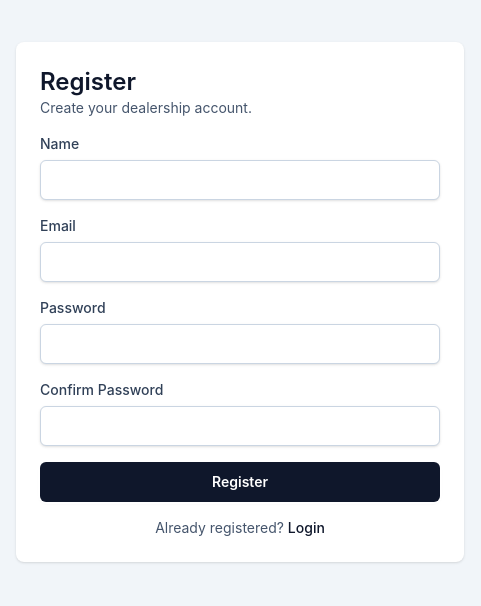
Test: Register Page › registers a user and shows success
Type "Hiren" into the field labelled "Name" at (240, 180), box [40, 160, 440, 200]
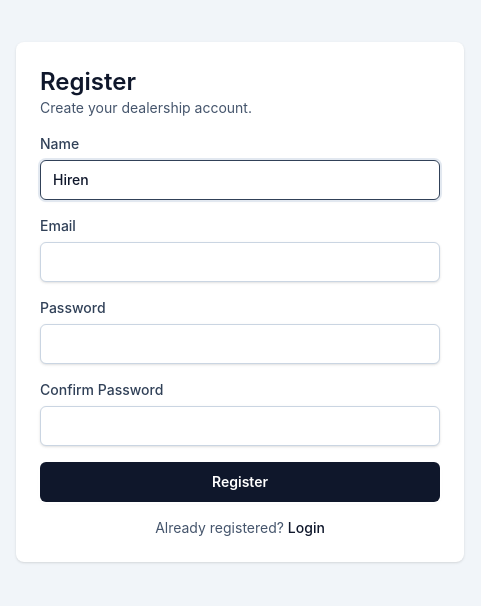
Type "hiren@example.com" into the field labelled "Email" at (240, 262), box [40, 242, 440, 282]
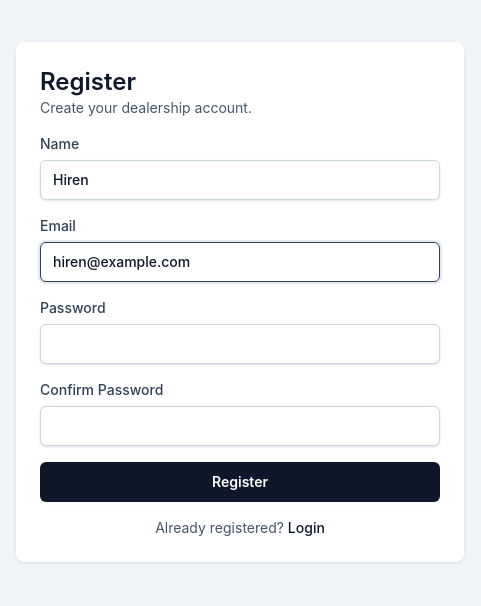
Type "Password123" into the password field labelled "Password" at (240, 344), box [40, 324, 440, 364]
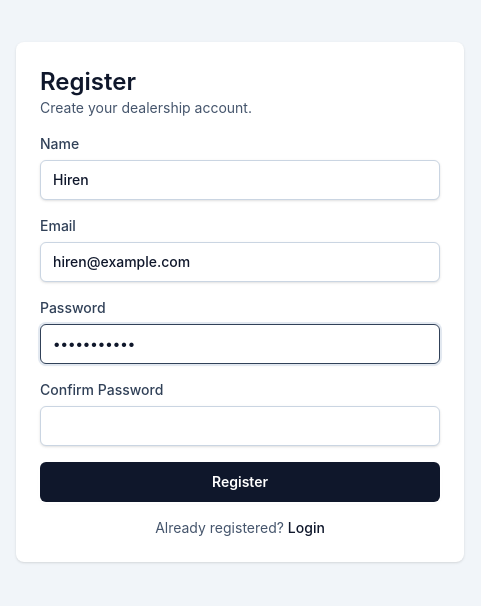
Type "Password123" into the password field labelled "Confirm Password" at (240, 426), box [40, 406, 440, 446]
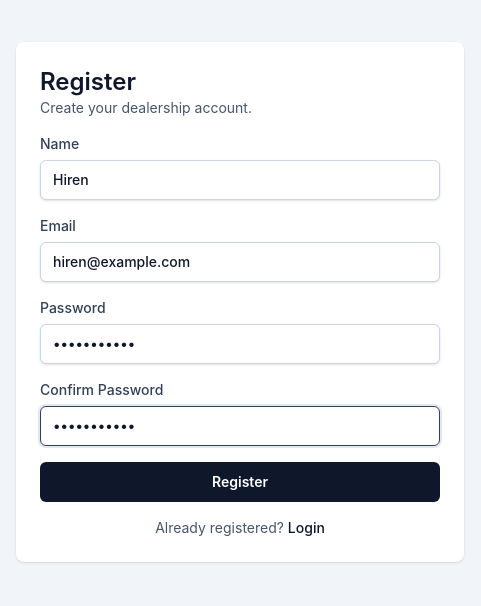
Click the button "Register" at (240, 482), box [40, 462, 440, 502]
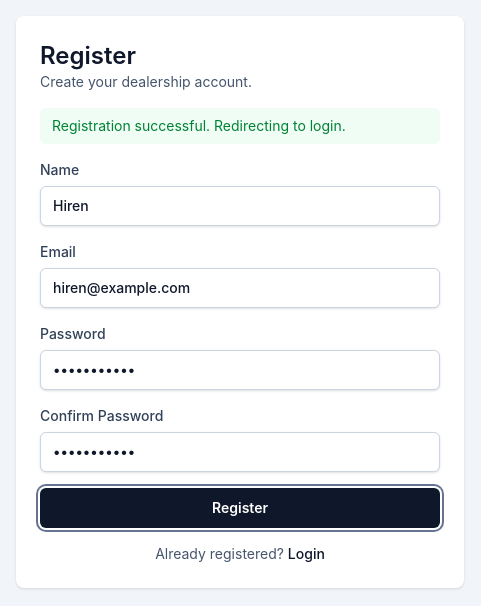
Expected: the text "Registration successful. Redirecting to login." is shown, [40, 108, 440, 144]
